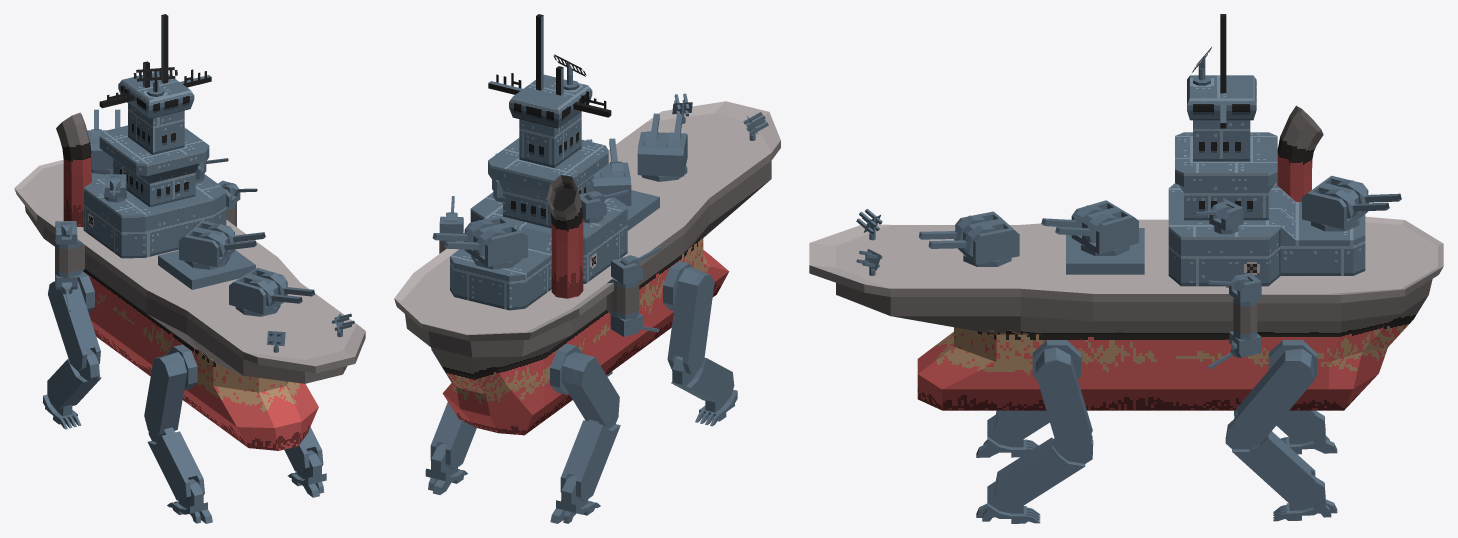
File: ShipFinal1.gltf
The picture shows the model from 3 angles, left to right: view 1: azimuth 30°, elevation 25°; view 2: azimuth 150°, elevation 25°; view 3: azimuth 270°, elevation 25°; orthographic projection. The views are drawn at different scales.
Visible parts, largest first — view 1: hull, deck1, deck2, deckgun_middle (×3), deck4, smokestack, front_left_leg, rear_left_leg, front_left_leg_lower, deck3, deckgun_stage, rear_left_leg_lower (+11 smaller); view 2: hull, deck1, deck2, deckgun_middle (×3), deck4, smokestack, front_left_leg, rear_left_leg, rear_left_leg_lower, deck3, front_left_leg_lower, rear_right_leg_lower (+10 smaller); view 3: hull, deck1, deck2, deckgun_middle (×3), rear_right_leg, front_right_leg, front_right_leg_lower, rear_right_leg_lower, deck4, smokestack, deck3, deckgun_stage (+7 smaller).
Part boxes in pixels (x1,y1,x2,y2): hull: [14, 159, 365, 450]; deck1: [83, 172, 226, 258]; deck2: [99, 125, 209, 207]; deckgun_middle (×3): [87, 130, 287, 314]; deck4: [99, 14, 211, 118]; smokestack: [56, 112, 91, 227]; front_left_leg: [144, 352, 186, 436]; rear_left_leg: [48, 281, 100, 370]; front_left_leg_lower: [147, 427, 204, 502]; deck3: [128, 103, 184, 154]; deckgun_stage: [158, 250, 255, 289]; rear_left_leg_lower: [47, 348, 101, 409]; hull: [394, 101, 780, 435]; deck1: [450, 192, 627, 310]; deck2: [488, 138, 608, 228]; deckgun_middle (×3): [464, 132, 687, 266]; deck4: [488, 14, 611, 128]; smokestack: [547, 175, 583, 298]; front_left_leg: [667, 267, 714, 374]; rear_left_leg: [561, 352, 619, 426]; rear_left_leg_lower: [560, 413, 620, 501]; deck3: [519, 111, 581, 167]; front_left_leg_lower: [671, 356, 734, 404]; rear_right_leg_lower: [430, 402, 476, 469]; hull: [809, 216, 1443, 410]; deck1: [1168, 183, 1365, 286]; deck2: [1175, 132, 1277, 220]; deckgun_middle (×3): [955, 175, 1368, 264]; rear_right_leg: [1234, 348, 1314, 443]; front_right_leg: [1035, 347, 1092, 455]; front_right_leg_lower: [994, 437, 1093, 508]; rear_right_leg_lower: [1225, 419, 1315, 504]; deck4: [1187, 14, 1256, 128]; smokestack: [1276, 105, 1323, 201]; deck3: [1193, 120, 1250, 161]; deckgun_stage: [1066, 228, 1144, 274].
Size of the model in its own units: 5.24 by 10.85 by 13.11.
Materials: 1 (1 with a texture image).
